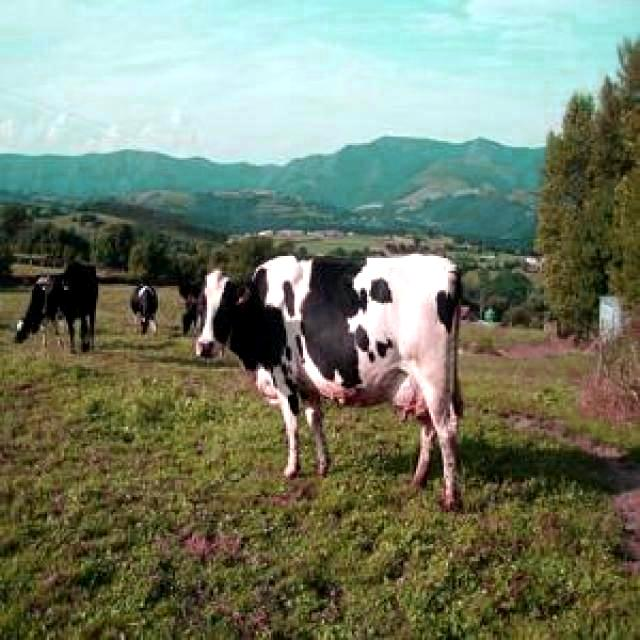COW: (198, 254, 460, 509)
